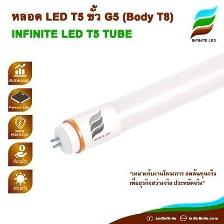light_bulb: (48, 42, 224, 157)
